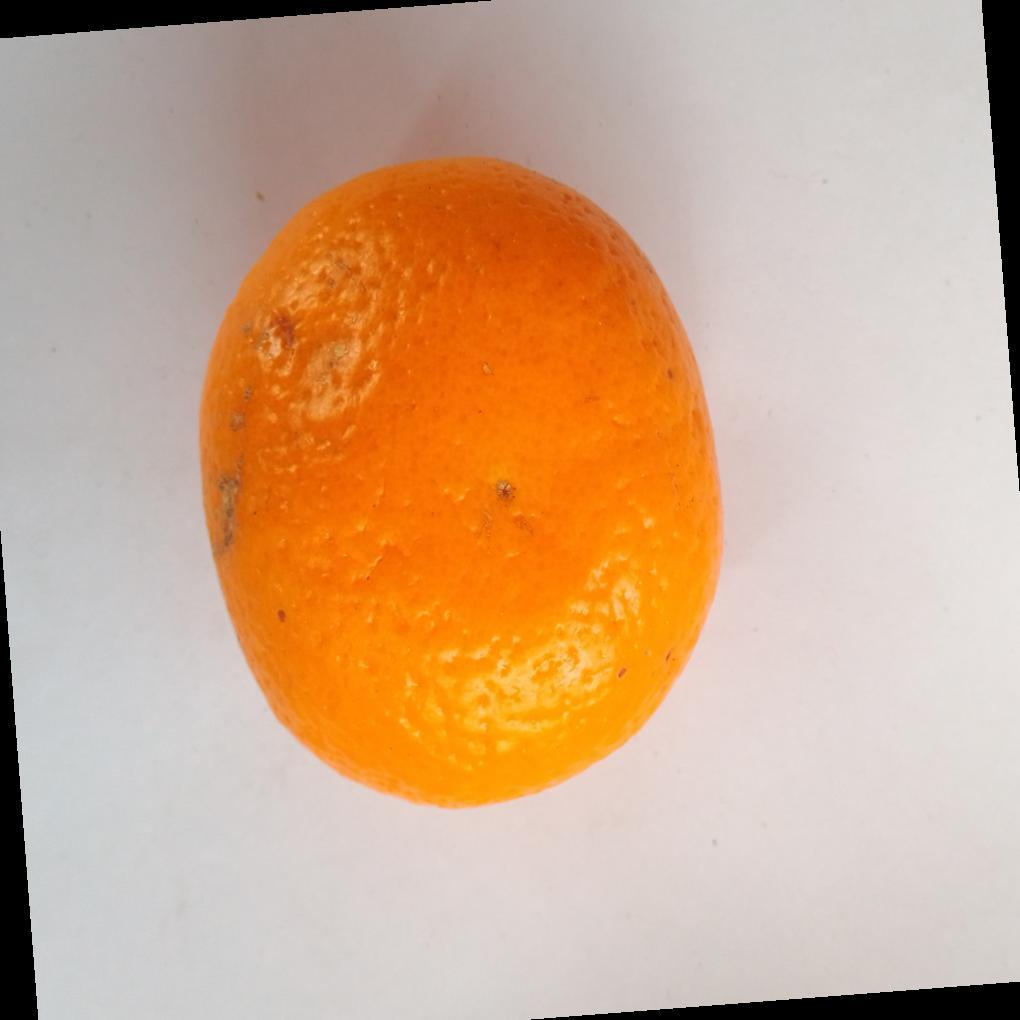FreshGuava: (197, 156, 725, 814)
